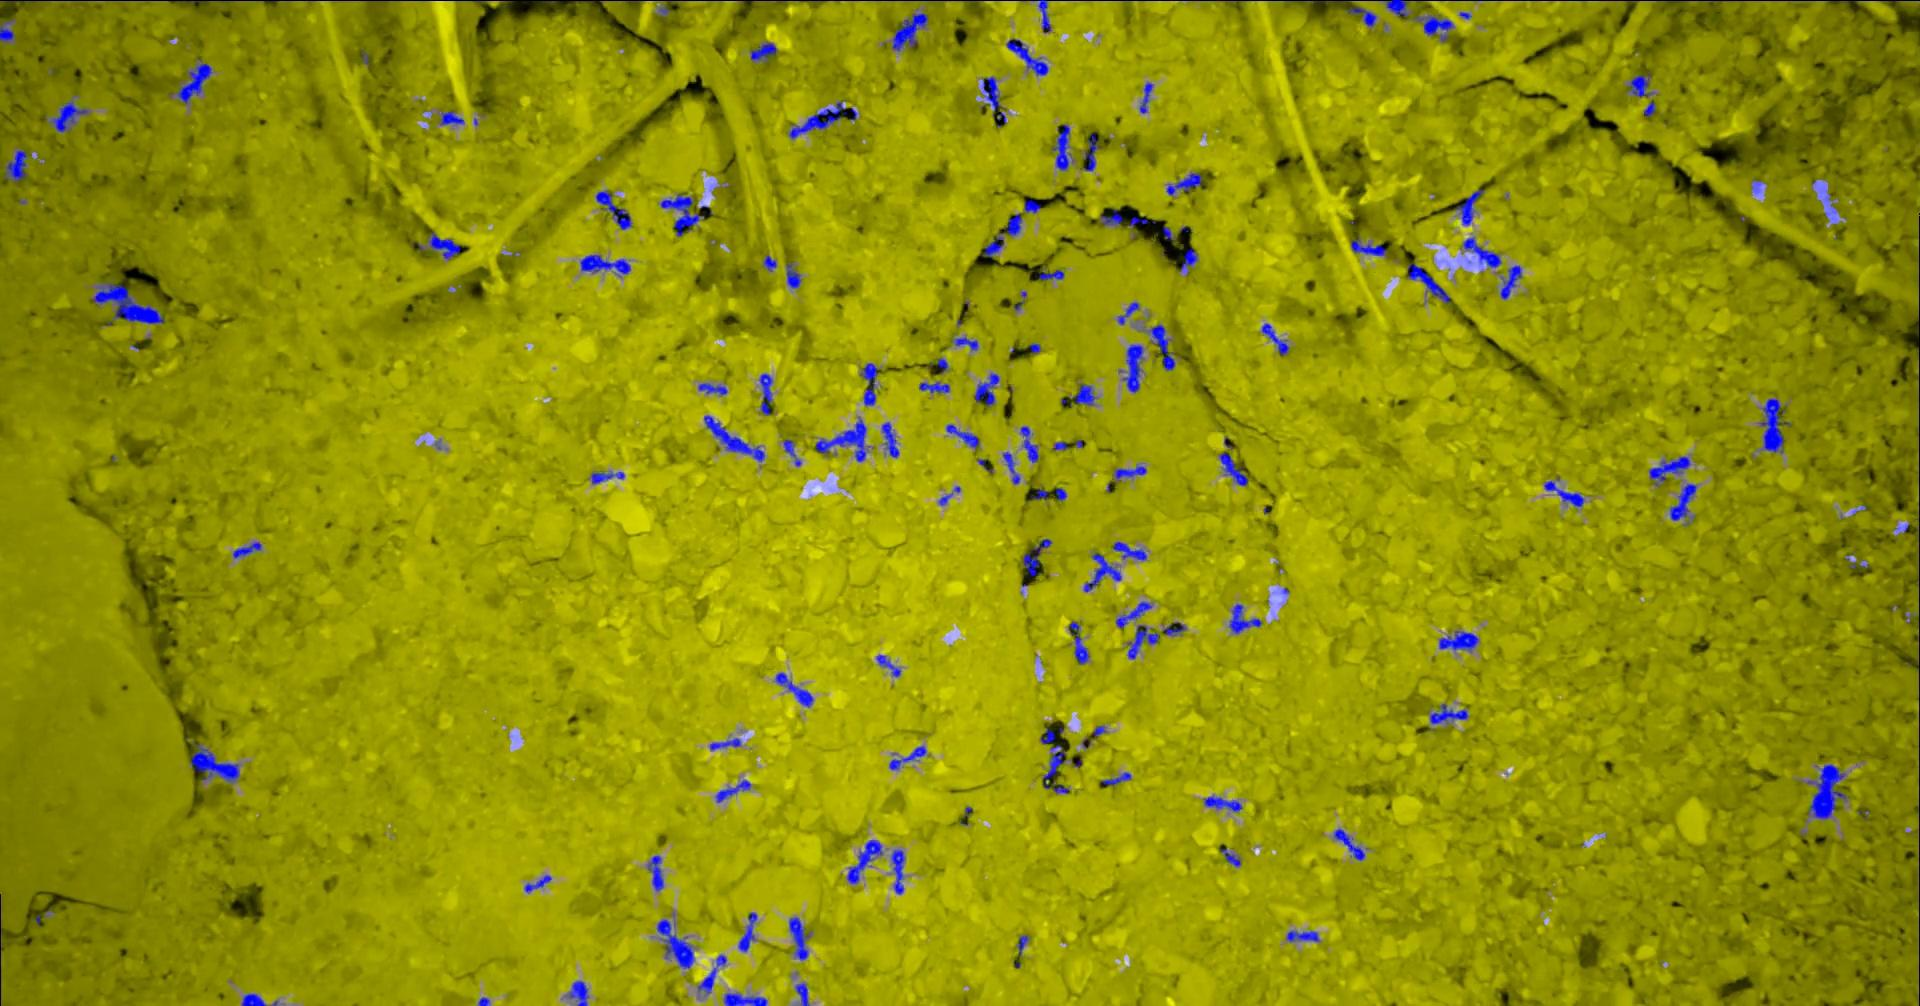ant: (703, 415, 764, 461), (814, 417, 866, 461), (1806, 763, 1846, 818), (789, 102, 846, 138), (189, 743, 239, 782), (660, 193, 703, 236), (657, 918, 693, 968), (1407, 263, 1450, 304), (1759, 398, 1790, 452), (983, 213, 1021, 257), (846, 840, 883, 883), (177, 58, 211, 104), (1006, 38, 1048, 75), (1083, 553, 1121, 591), (891, 11, 927, 51), (596, 191, 631, 229), (775, 672, 813, 708), (1043, 744, 1069, 793), (1148, 324, 1175, 370), (48, 100, 88, 131), (1648, 456, 1689, 485), (1463, 236, 1501, 267), (982, 76, 1004, 126), (579, 254, 630, 276), (1128, 624, 1158, 659), (1022, 539, 1051, 575), (1543, 480, 1583, 506), (1455, 188, 1483, 225), (1669, 483, 1697, 520), (1415, 14, 1453, 41), (1332, 828, 1364, 860), (1123, 344, 1143, 392), (1228, 603, 1261, 633), (1115, 601, 1150, 627), (1068, 621, 1090, 664), (1051, 124, 1072, 170), (427, 231, 460, 259), (1219, 452, 1247, 485), (5, 149, 30, 183), (973, 372, 998, 406), (888, 746, 926, 768), (1166, 171, 1201, 196), (789, 917, 809, 959), (1261, 323, 1288, 354), (1437, 630, 1478, 650), (715, 779, 750, 801), (945, 424, 978, 448), (1429, 702, 1467, 723), (860, 362, 877, 405), (1498, 265, 1521, 298), (738, 912, 756, 951), (1020, 426, 1037, 462), (1350, 238, 1385, 255), (1112, 541, 1145, 560), (1345, 5, 1375, 25), (1082, 133, 1098, 170), (881, 420, 898, 457), (1203, 795, 1242, 810), (891, 848, 904, 894), (1002, 451, 1020, 483), (723, 992, 767, 1005), (1628, 72, 1651, 97), (648, 855, 663, 890), (759, 373, 772, 415), (697, 967, 716, 995), (1072, 384, 1096, 405), (876, 654, 900, 676), (1112, 465, 1145, 480), (568, 981, 588, 1005), (1036, 0, 1051, 32), (1117, 302, 1139, 324), (523, 875, 551, 892), (1178, 246, 1197, 271), (750, 42, 776, 60), (232, 542, 262, 558), (783, 439, 800, 466), (590, 470, 623, 483), (785, 262, 800, 288), (709, 737, 740, 749), (1384, 0, 1408, 17), (1139, 83, 1152, 113), (1100, 772, 1130, 785), (1219, 847, 1239, 866), (1100, 208, 1123, 225), (1286, 930, 1319, 941), (918, 381, 949, 392), (439, 111, 463, 124), (952, 337, 977, 351), (1037, 267, 1063, 279), (698, 382, 726, 394), (1162, 621, 1185, 635), (1129, 216, 1156, 227), (0, 19, 14, 41), (795, 983, 809, 1005), (241, 993, 265, 1005), (1040, 728, 1055, 743), (1017, 935, 1029, 955), (1023, 199, 1040, 212), (763, 255, 776, 271), (1031, 488, 1048, 499), (1643, 102, 1655, 116), (1054, 486, 1065, 500), (168, 0, 234, 1), (1284, 0, 1350, 1)
